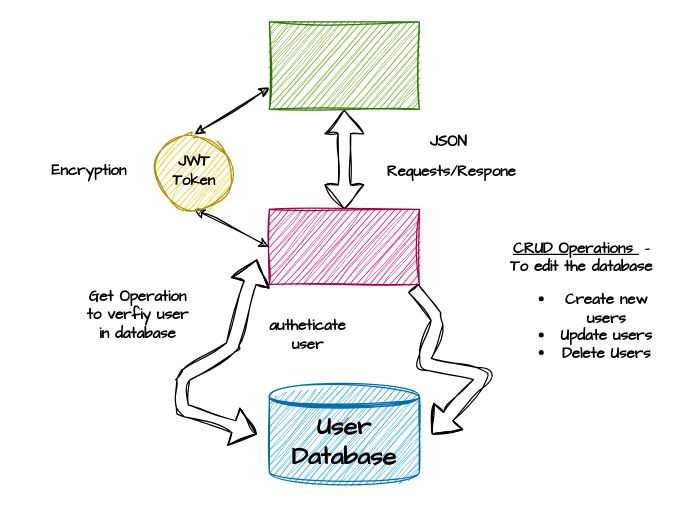
This 678x506 diagram has some shape labels left out. Here are the shapes that lost their labels. From the top down, the centre of each, then its label:
At pixel 343 65: "Front End".
At pixel 343 246: "Backend".
